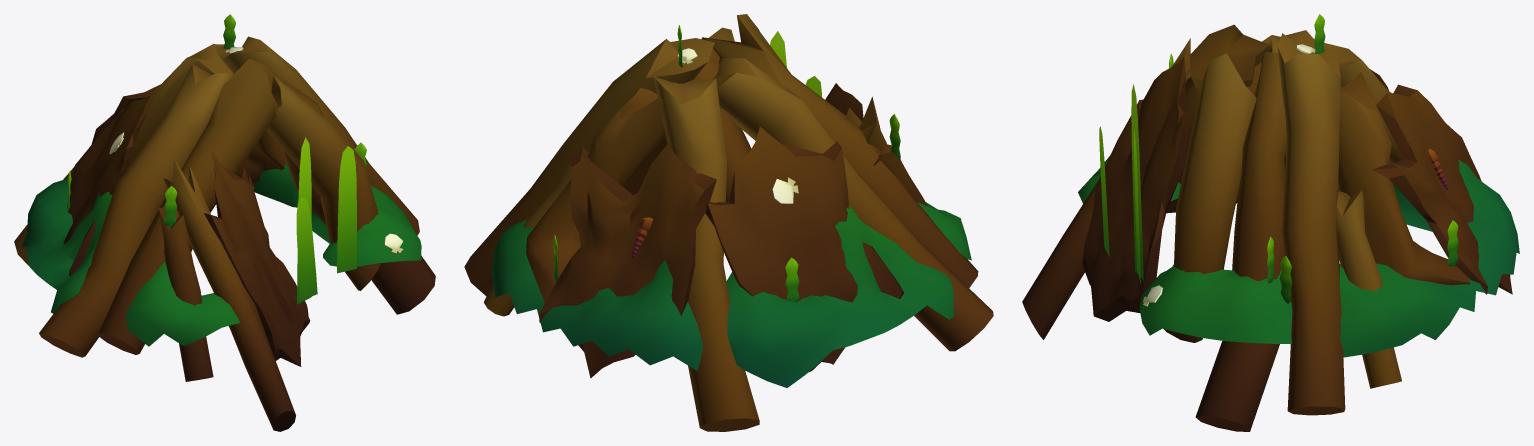
The model's file is House_wood_b.fbx.
3 renders of one model, left to right at view 1: azimuth 30°, elevation 25°; view 2: azimuth 150°, elevation 25°; view 3: azimuth 270°, elevation 25°, orthographic. The views are drawn at different scales.
Visible parts, largest first — view 1: Sticks, Moss, Bark, door, Seaweed_2; view 2: Sticks, Bark, Moss, door, Shell_1, Seaweed_3; view 3: Sticks, Bark, Moss, door.
Part boxes in pixels (x1,y1,x2,y2): Sticks: (14, 36, 435, 431); Moss: (21, 163, 421, 346); Bark: (63, 84, 310, 366); door: (296, 137, 356, 304); Seaweed_2: (164, 185, 177, 227); Sticks: (464, 14, 993, 431); Bark: (539, 83, 903, 378); Moss: (491, 202, 971, 387); door: (770, 31, 821, 96); Shell_1: (772, 177, 798, 203); Seaweed_3: (785, 257, 799, 302); Sticks: (1022, 24, 1470, 431); Bark: (1082, 56, 1512, 321); Moss: (1078, 155, 1519, 357); door: (1099, 84, 1143, 283).
Bounding box in the file's own units: 20.85 × 15.1 × 18.8.
1 material, 1 textured.
